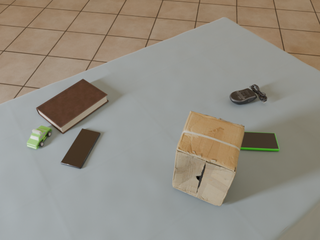book: (36, 79, 108, 134)
box: (172, 111, 245, 206)
mouse: (230, 84, 267, 105)
phone: (61, 129, 100, 169), (240, 132, 279, 151)
toy_car: (27, 126, 52, 149)
